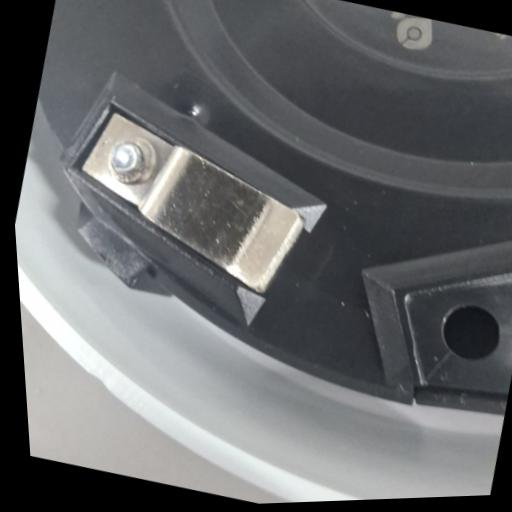yaysiz: (56, 100, 327, 306)
